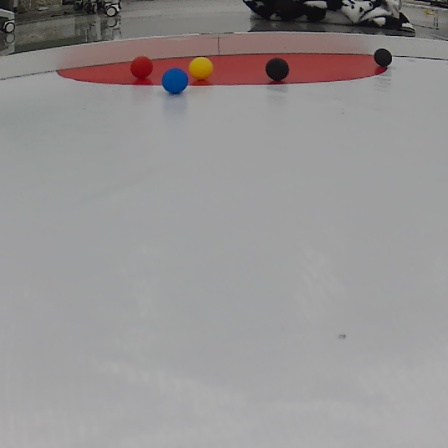black: (265, 58, 290, 80), (372, 48, 393, 66)
blue: (161, 68, 188, 93)
red: (132, 56, 154, 78)
red_base: (55, 56, 396, 86)
yellow: (191, 56, 214, 82)
